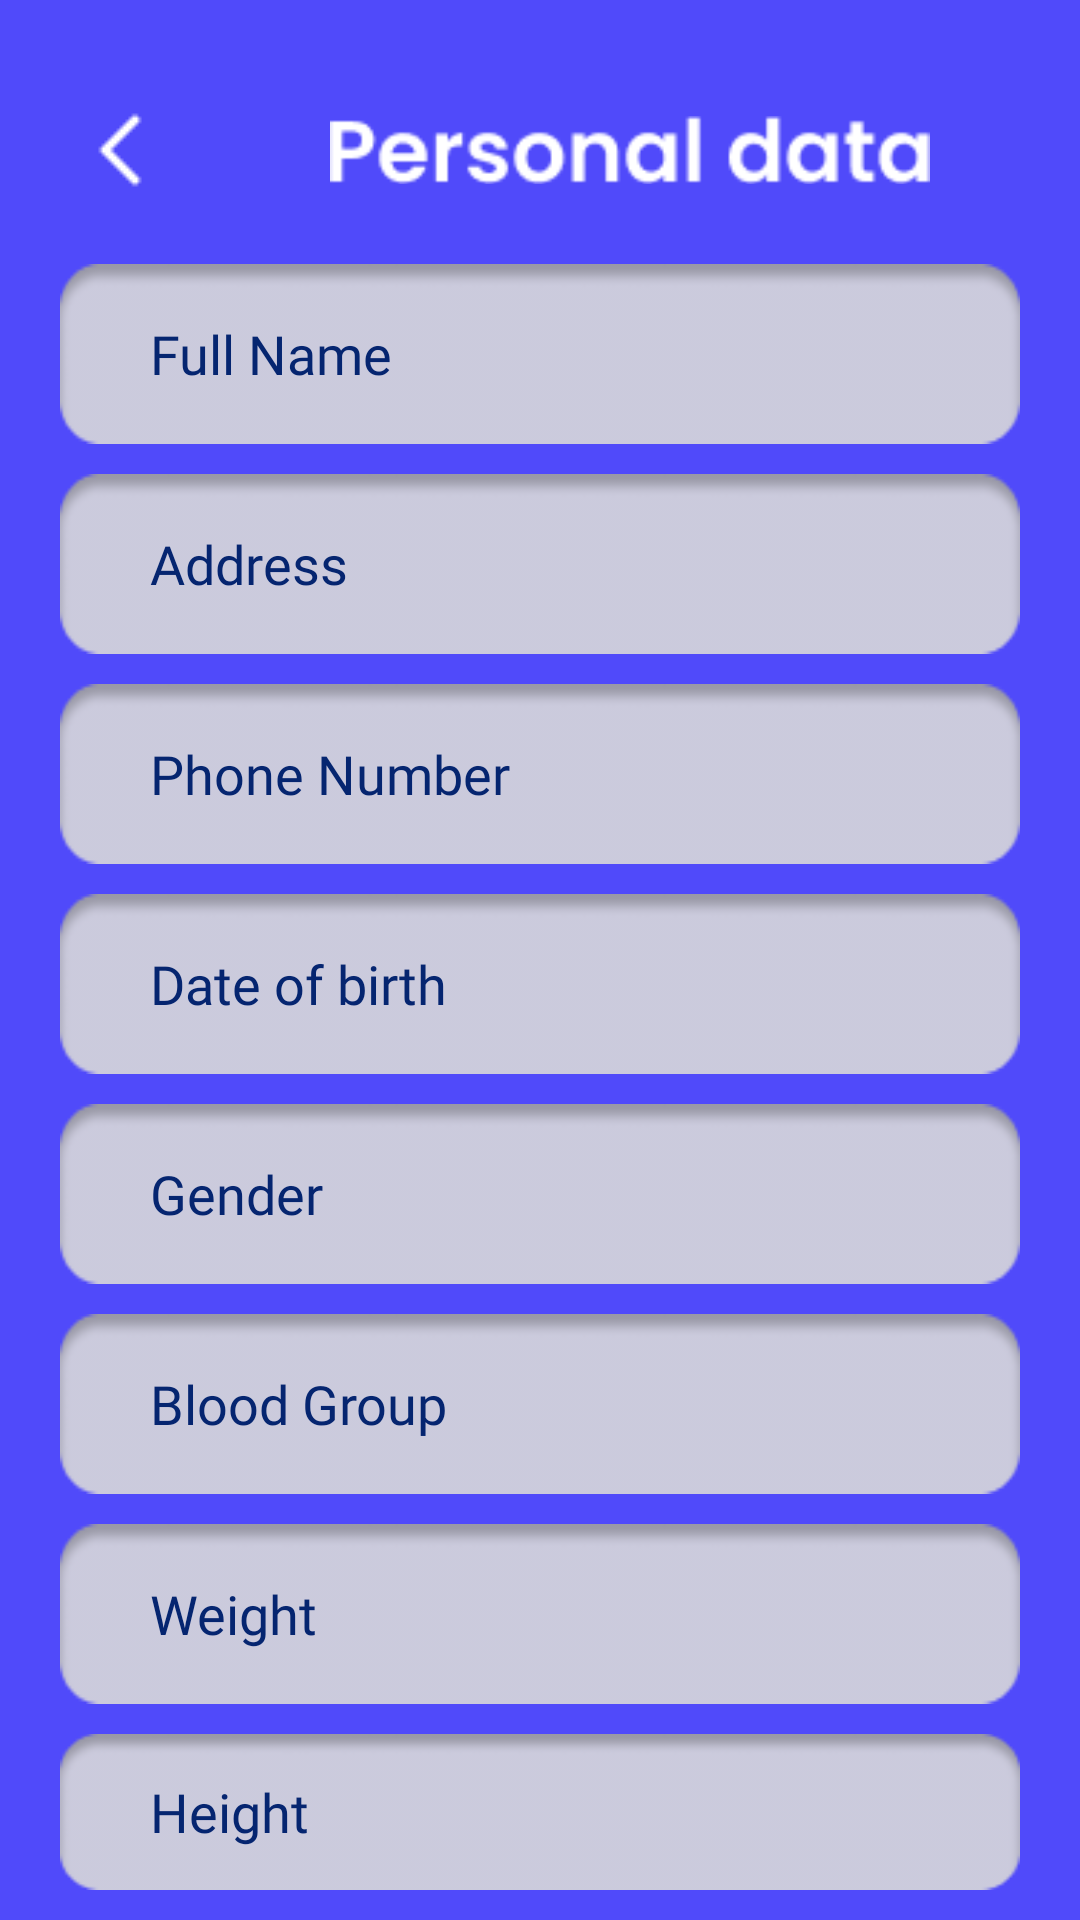

Locate icon controls on the screen. Image size 1080px x 1920px, boxes as (x1, y1, x2, y2).
chevronleft: (99, 114, 141, 186)
